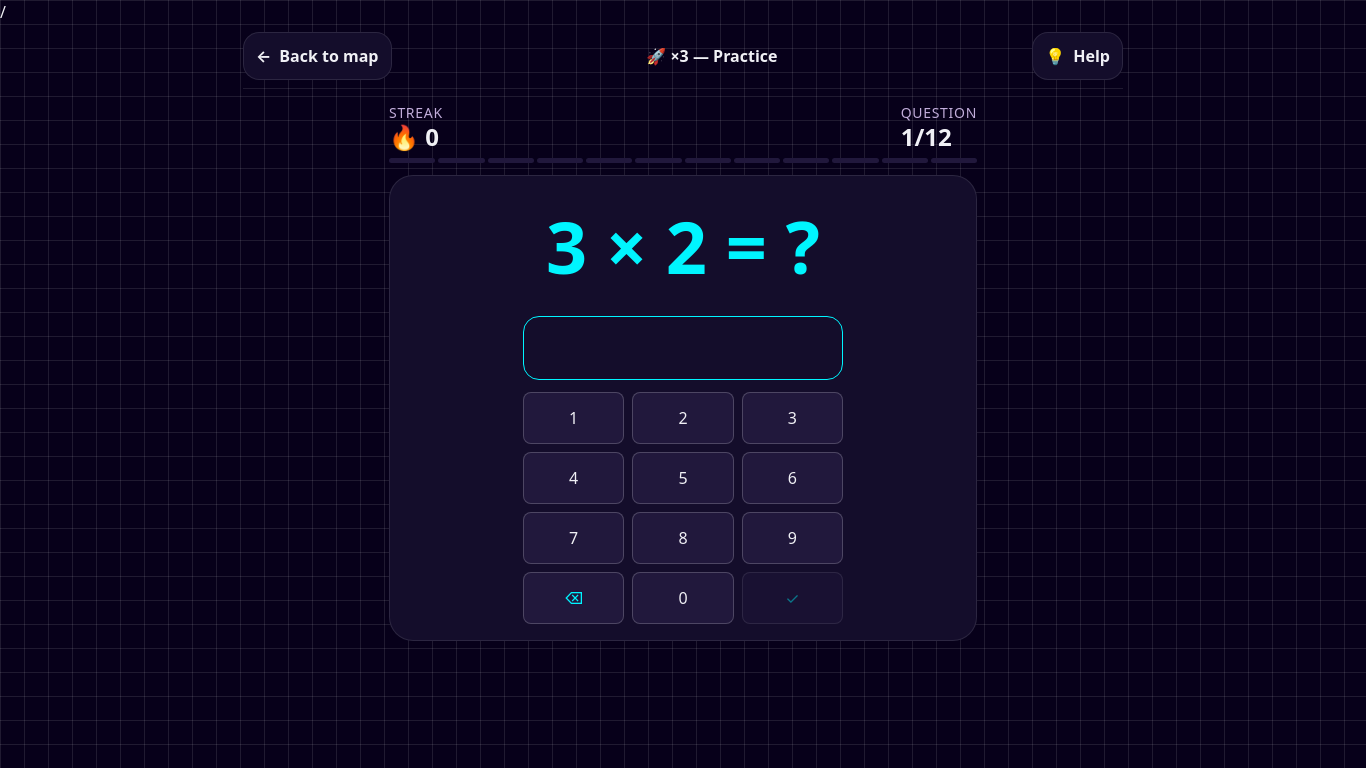
Test: PracticePhase dialogs behave like modals › advances past the explanation when it is dismissed with Escape
The image size is (1366, 768).
Step 1. Click the button "9" → [792, 538], box [742,512,843,564]
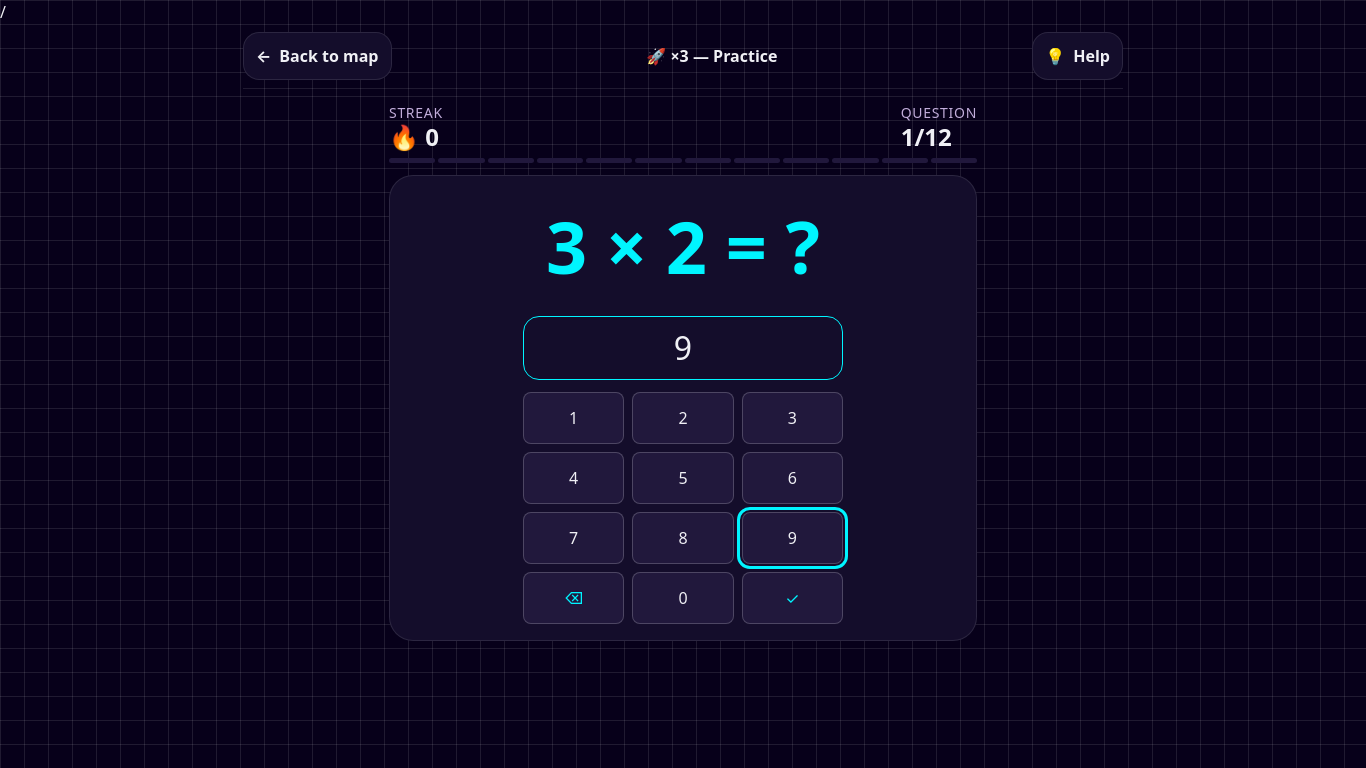
Step 2. Click the button "9" → [792, 538], box [742,512,843,564]
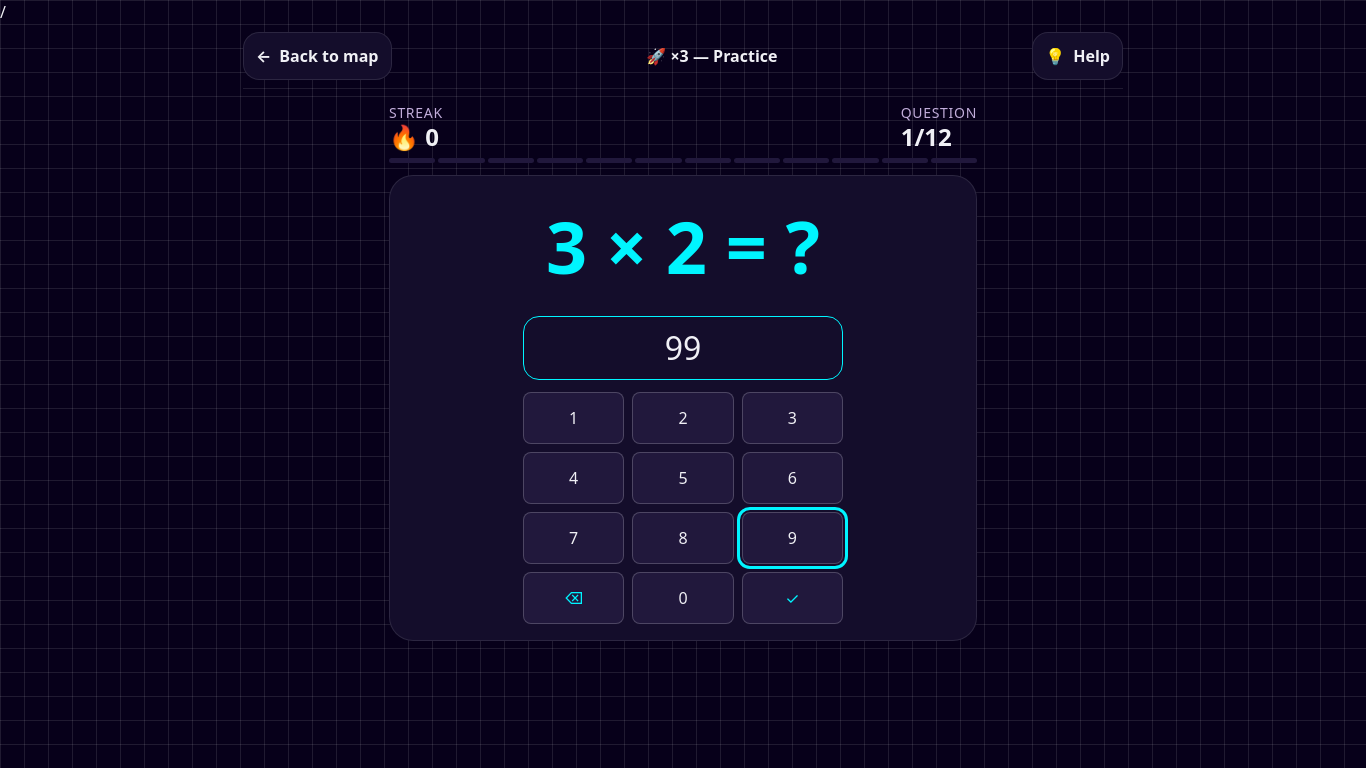
Step 3. Click the button "9" → [792, 538], box [742,512,843,564]
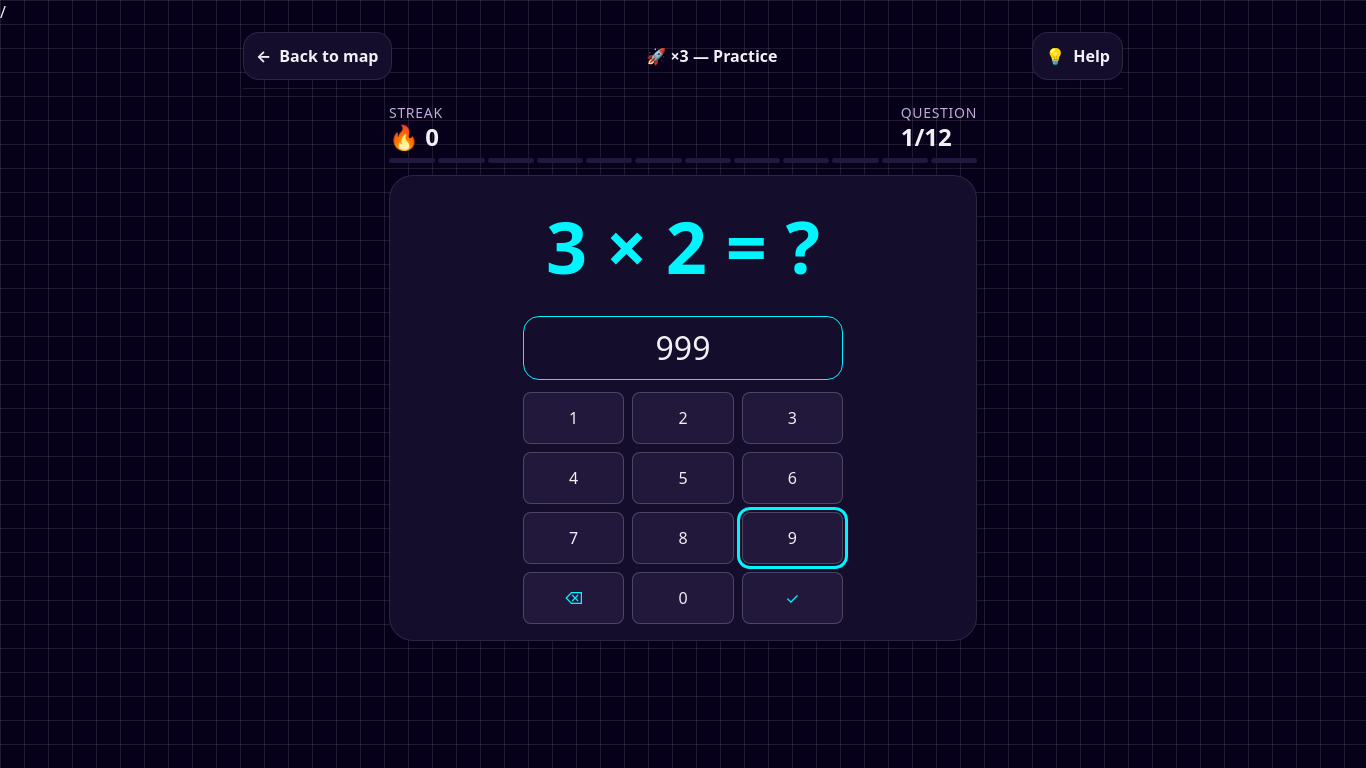
Step 4. Click the button named "Submit" → [792, 598], box [742,572,843,624]
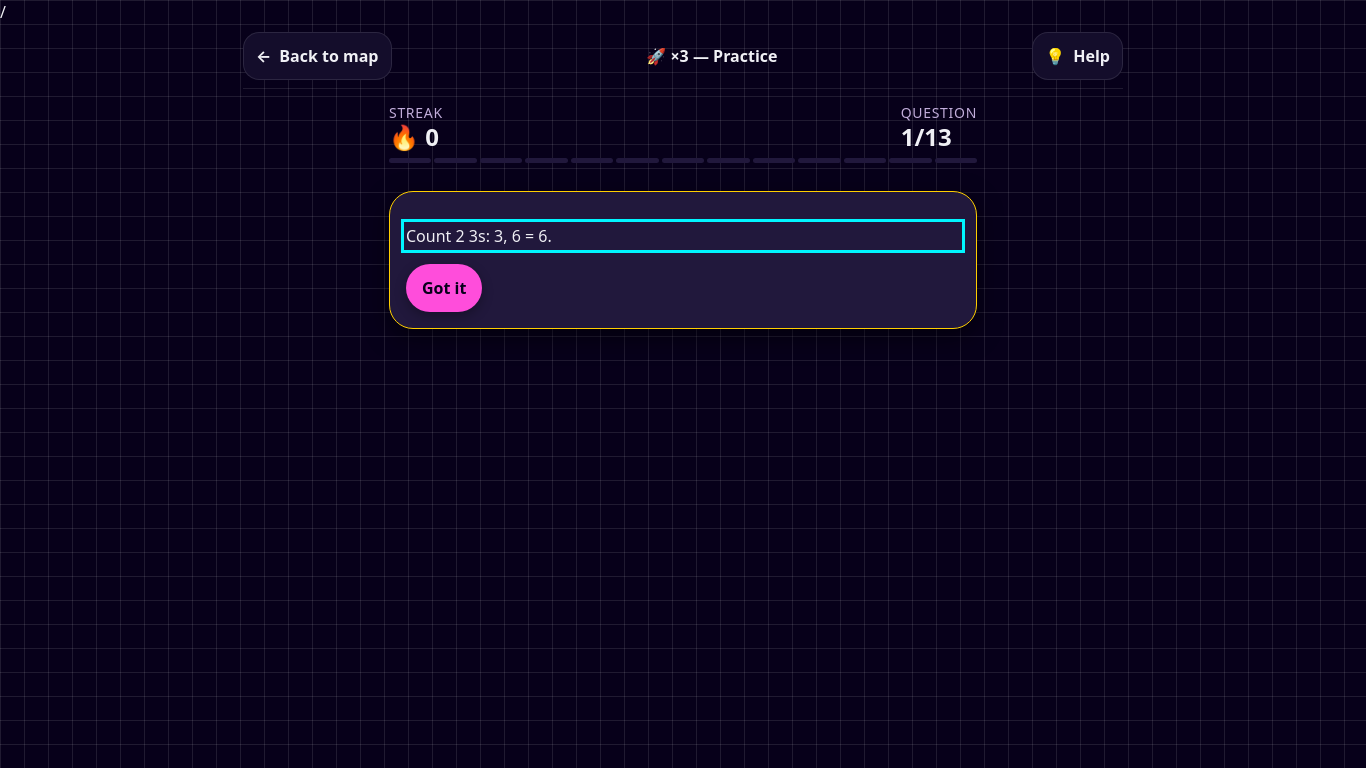
Now the dialog is shown, box [389,191,977,329]
Step 5. Press Escape
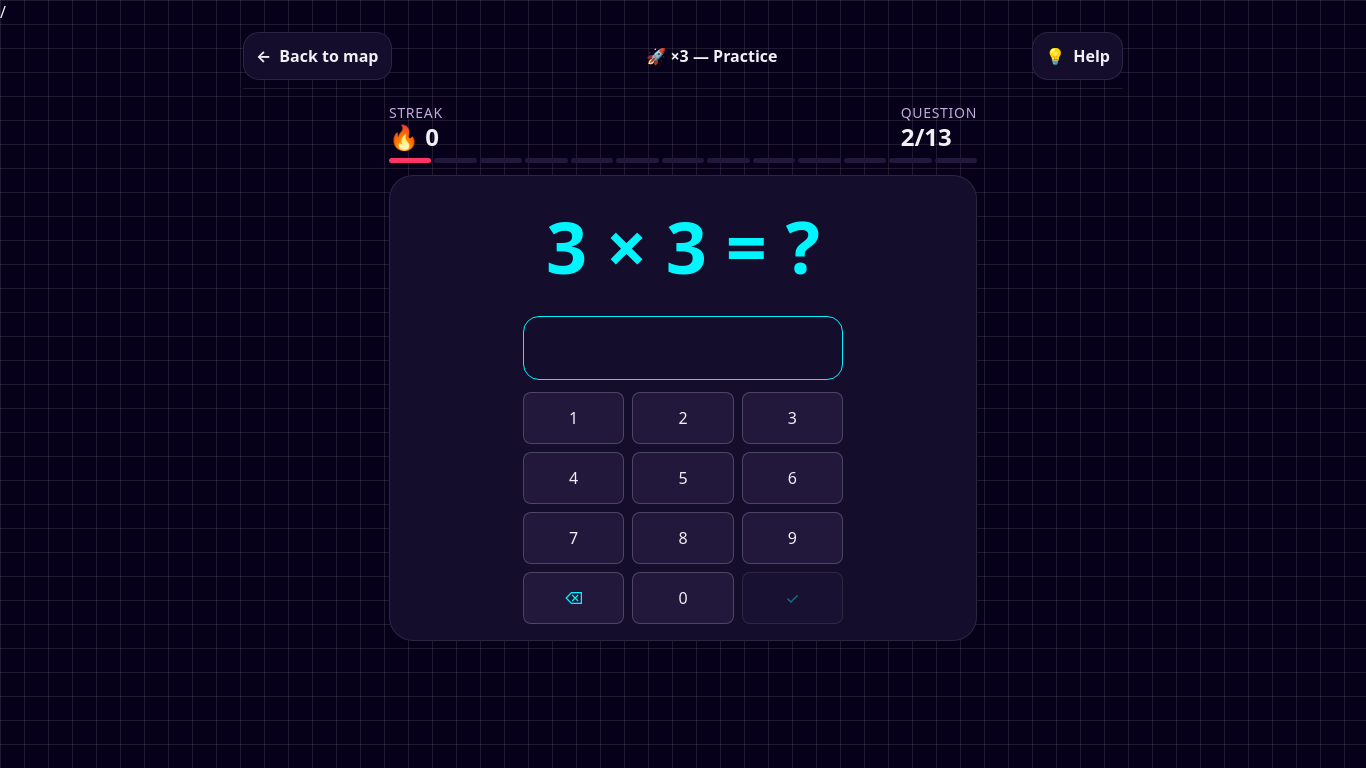
Now the dialog is gone
Now the button named "Submit" is shown, box [742,572,843,624]
